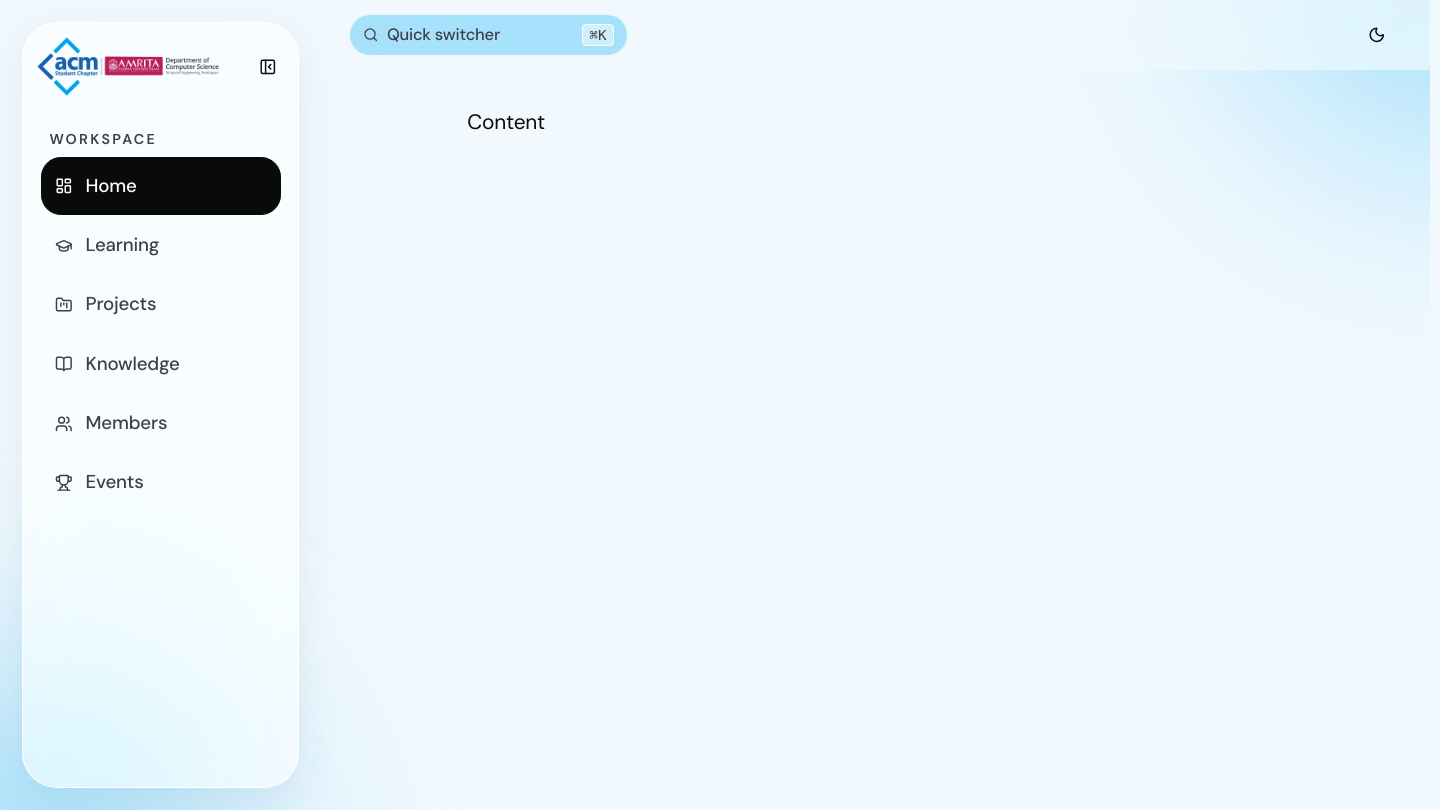
Scenario: AppShell navigation › loads the quick switcher only when opened
Click the button with aria-label "Open quick switcher".
click(488, 35)  # box [348,13,629,57]
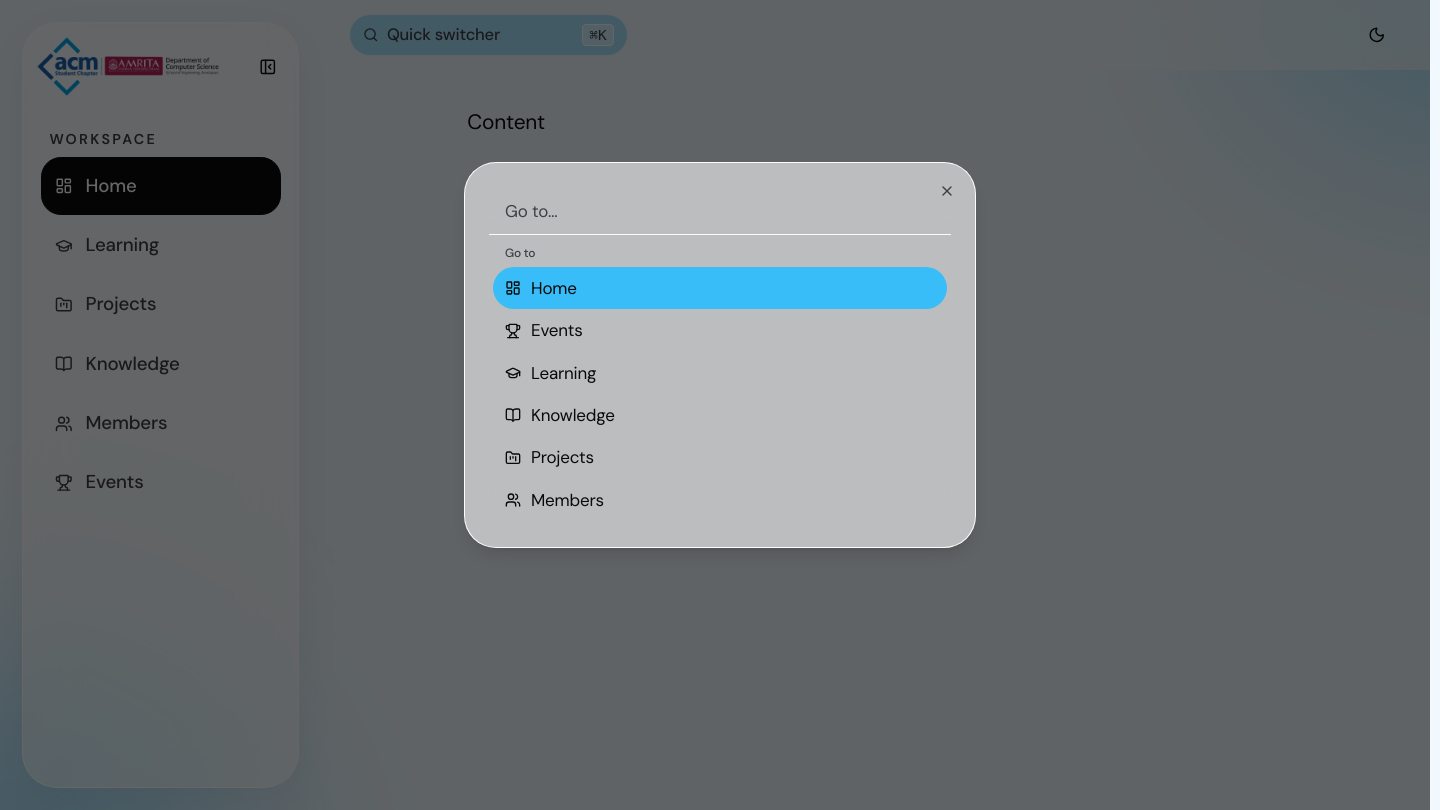
Result: the dialog named "Quick switcher" is shown at [464,162,976,548]
Result: the dropdown with placeholder "Go to…" is shown at [489,187,951,235]
